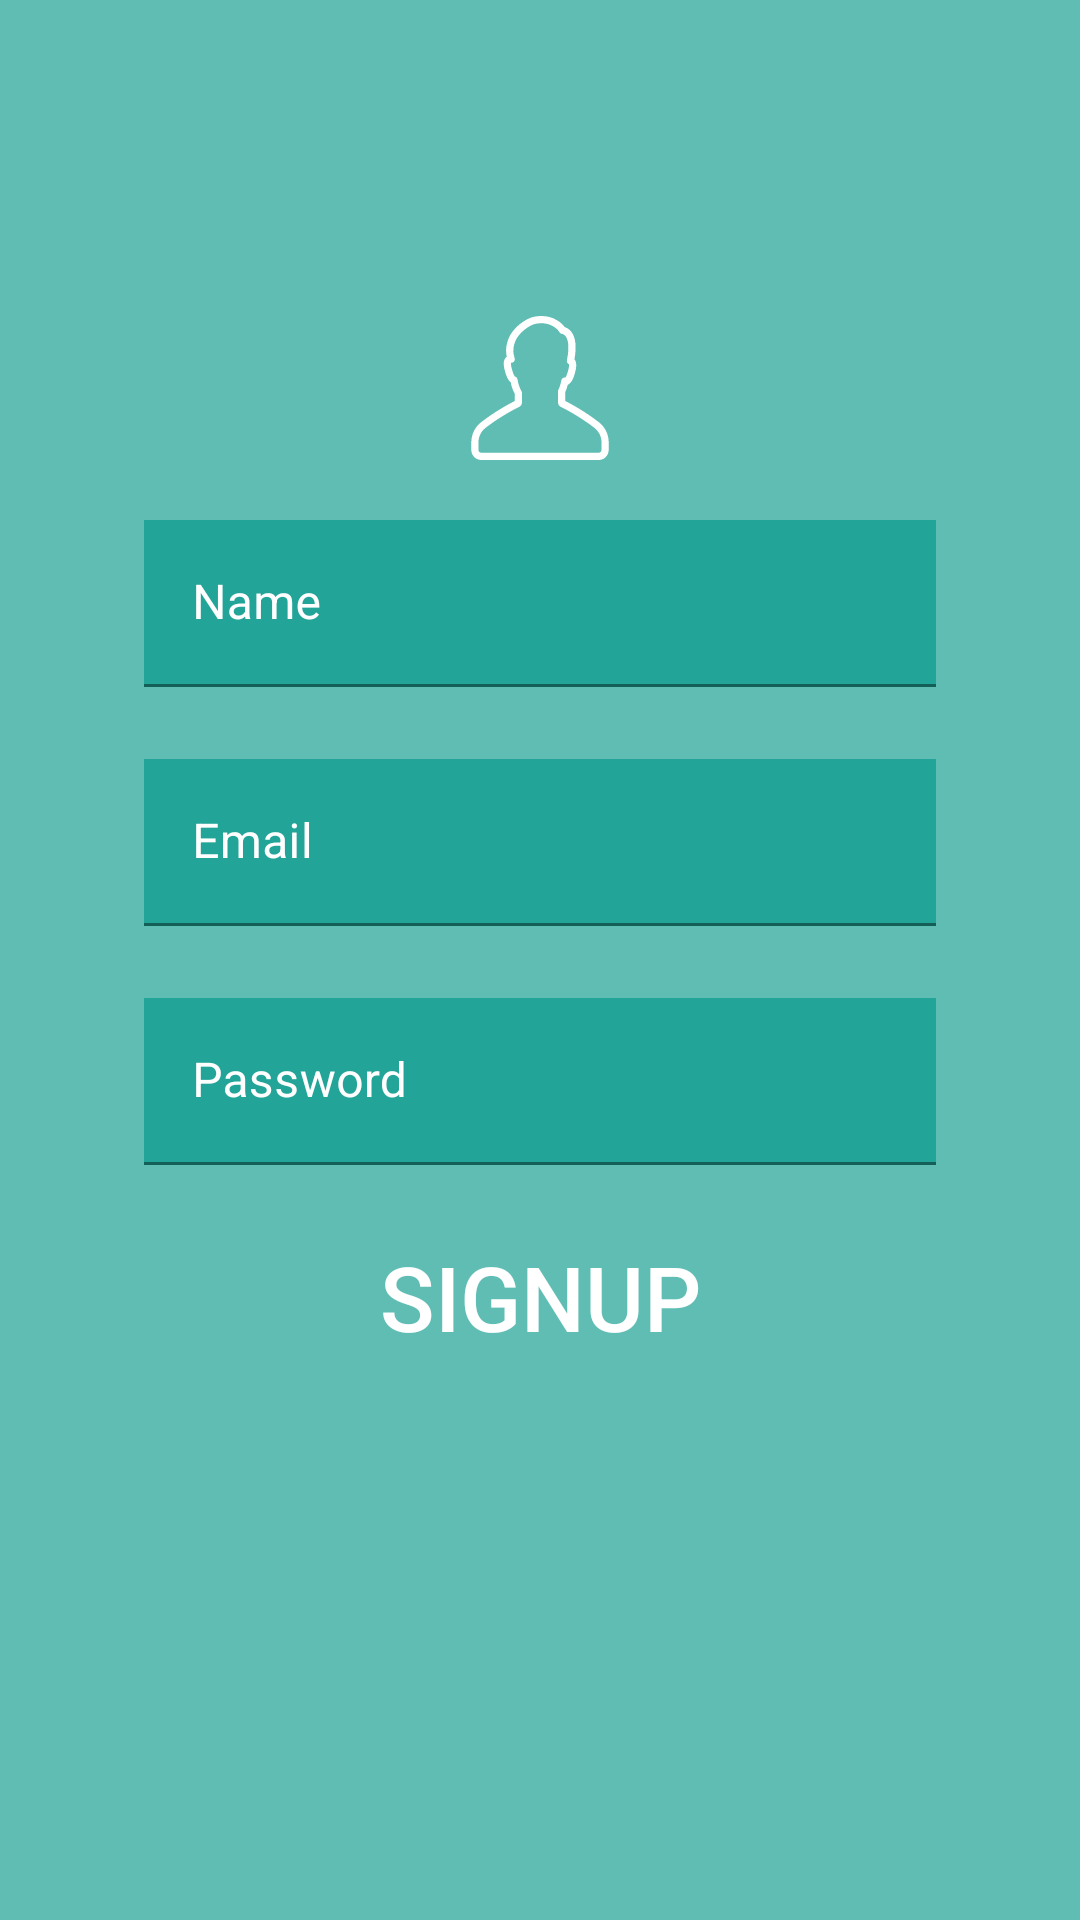

Named icons in this screenshot (1080px x 1920px) and their centers, (x,y):
user: (540,388)
